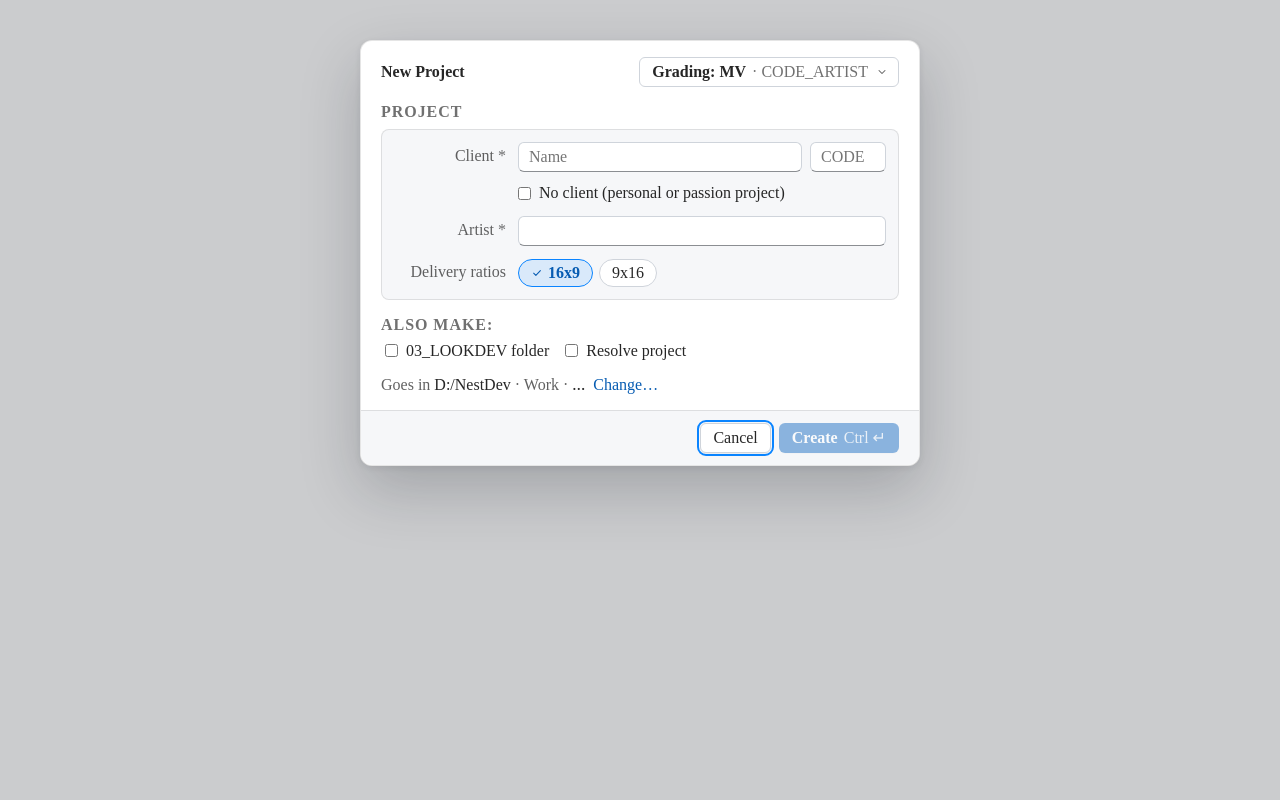
it: Resolve project › starts unticked when the template says so
The image size is (1280, 800).
expect the field labelled "Artist *" is shown: met, box left=518, top=216, right=886, bottom=246
Click the checkbox labelled "Resolve project".
click(572, 350)  # box left=565, top=344, right=578, bottom=357
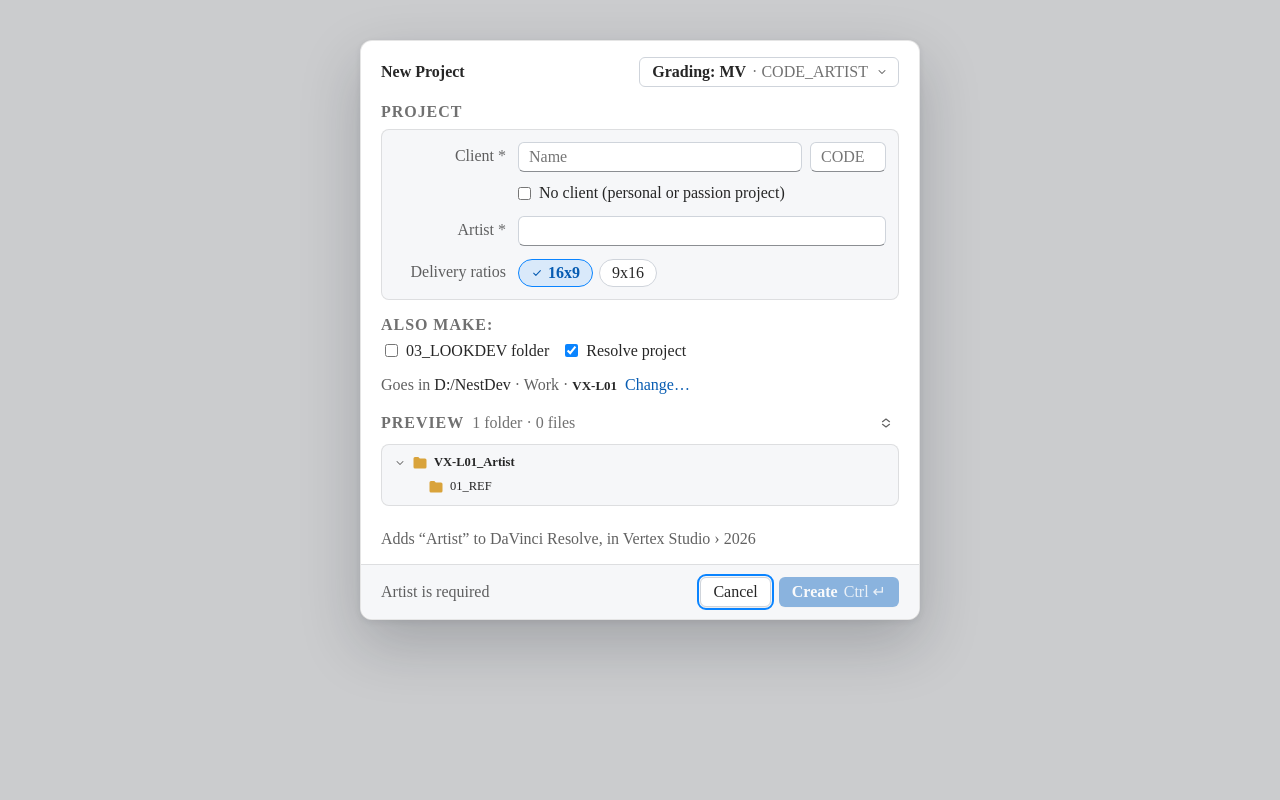
expect the text "Adds “Artist” to DaVinci Resolve, in Vertex Studio › 2026" is shown: met, box left=381, top=530, right=756, bottom=546
